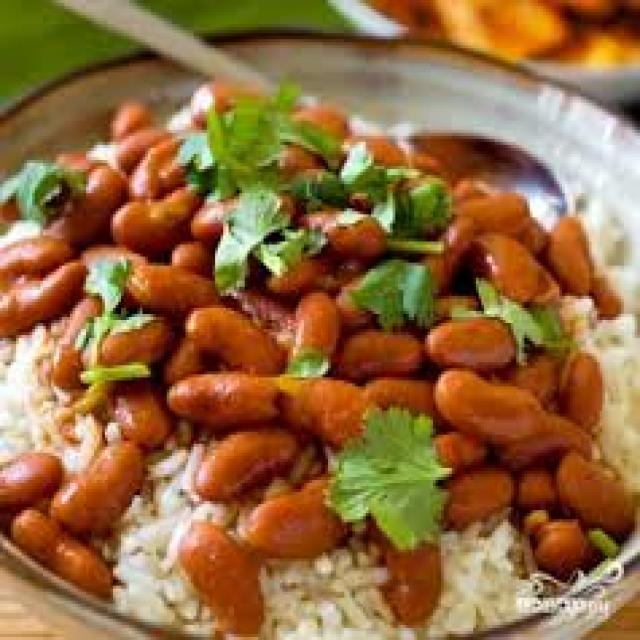Beans: (54, 71, 563, 516), (0, 445, 109, 599), (361, 498, 456, 624), (232, 475, 362, 566), (182, 515, 268, 640), (0, 217, 83, 344), (551, 448, 640, 542), (546, 207, 624, 313), (524, 505, 612, 583)
